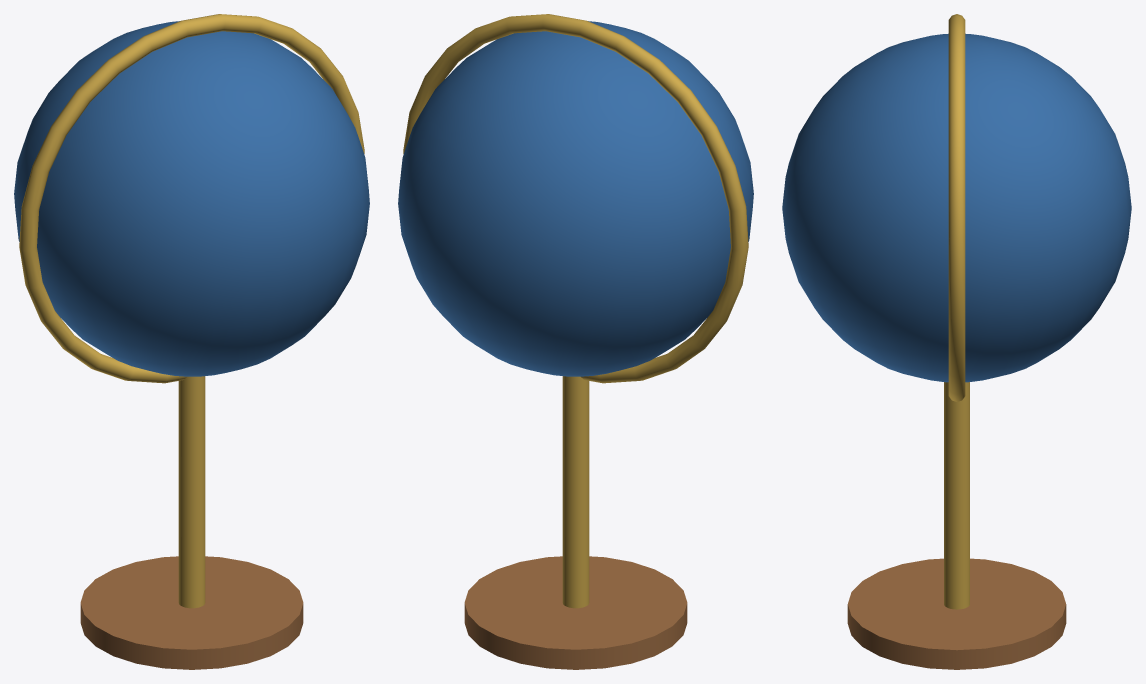
Rendered from globe.glb.
The picture shows the model from 3 angles, left to right: view 1: azimuth 30°, elevation 25°; view 2: azimuth 150°, elevation 25°; view 3: azimuth 270°, elevation 25°; orthographic projection. The views are drawn at different scales.
Parts seen in each view (by area): view 1: ball, stand; view 2: ball, stand; view 3: ball, stand.
Boxes of the visible parts, x1,y1,x2,y2 form: ball: (14, 21, 369, 376); stand: (19, 14, 364, 669); ball: (398, 21, 753, 376); stand: (403, 14, 748, 669); ball: (782, 33, 1131, 382); stand: (847, 14, 1066, 669).
Bounding box in the file's own units: 0.3556 × 0.5978 × 0.32.
